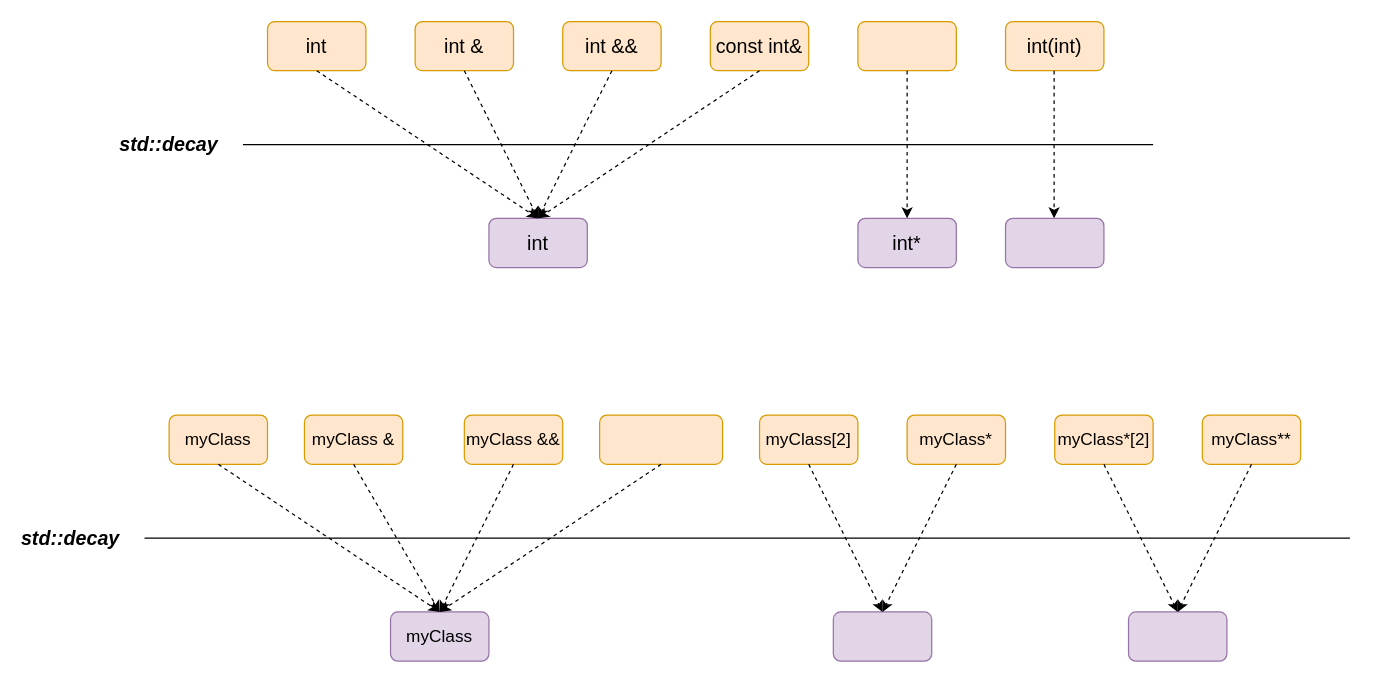
Image size: 1373x683. Some labels were removed from this diagram. The box of each missing label's shape, as (x1, y1, x2, y2) in pixels:
const myClass &: (598, 414, 723, 464)
int(*)(int): (1004, 217, 1104, 268)
int[2]: (857, 20, 956, 71)
myClass *: (832, 611, 932, 661)
myClass **: (1127, 611, 1227, 661)
